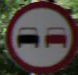No overtake: (6, 6, 71, 62)
